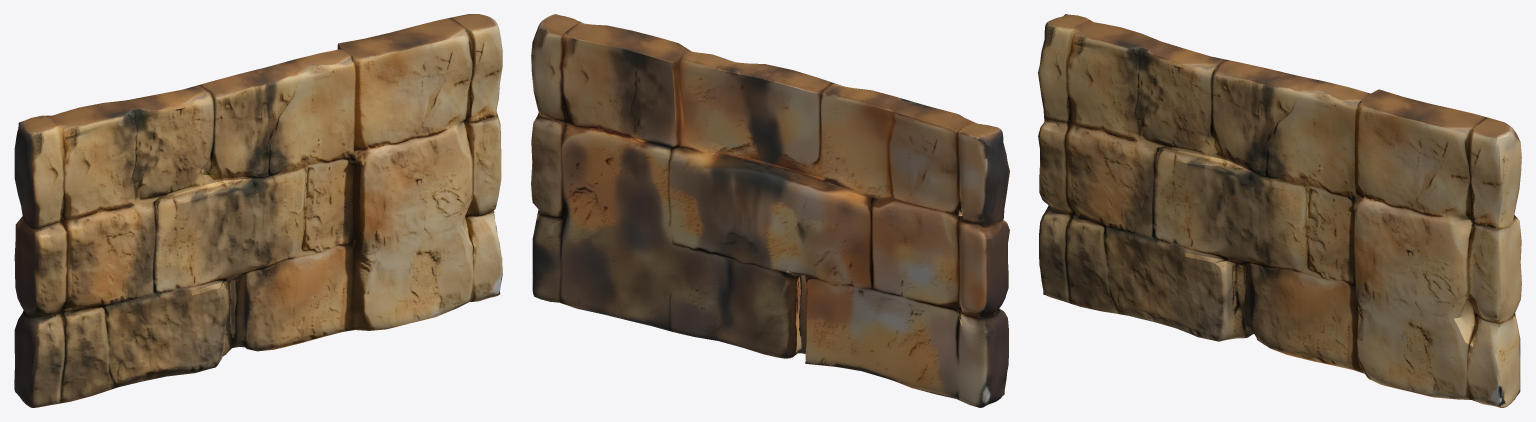
File: Meshy_AI_Ancient_Stone_Wall_0102173155_texture.fbx
The picture shows the model from 3 angles, left to right: view 1: azimuth 30°, elevation 25°; view 2: azimuth 150°, elevation 25°; view 3: azimuth 330°, elevation 25°; orthographic projection.
Visible parts, largest first — view 1: Mesh0; view 2: Mesh0; view 3: Mesh0.
Part boxes in pixels (left/top/right/bottom): Mesh0: left=14, top=14, right=502, bottom=407; Mesh0: left=531, top=14, right=1009, bottom=407; Mesh0: left=1038, top=14, right=1521, bottom=407.
Size of the model in its own units: 535 by 300 by 61.62.
Materials: 1 (1 with a texture image).
